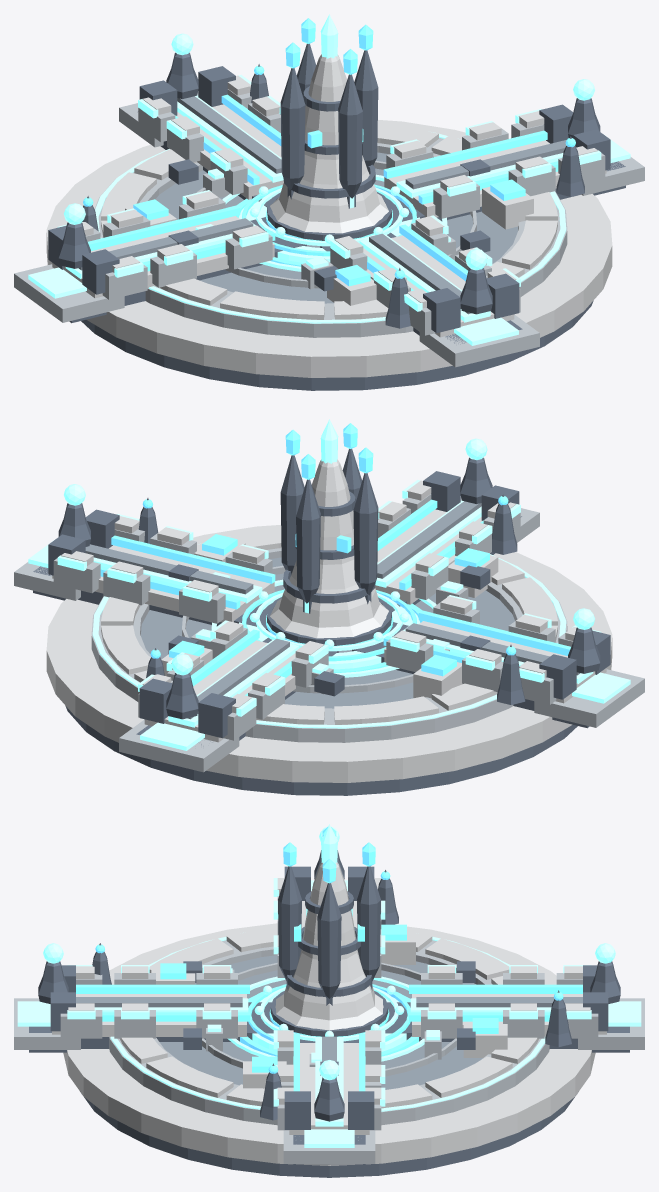
File: base_earth.glb
3 renders of one model, top to bottom at view 1: azimuth 30°, elevation 25°; view 2: azimuth 150°, elevation 25°; view 3: azimuth 270°, elevation 25°, orthographic. The views are drawn at different scales.
Parts seen in each view (by area): view 1: MATERIAL_ivory, MATERIAL_gunmetal, MATERIAL_silver, MATERIAL_cyan, MATERIAL_blue, MATERIAL_steel; view 2: MATERIAL_ivory, MATERIAL_gunmetal, MATERIAL_silver, MATERIAL_cyan, MATERIAL_blue, MATERIAL_steel; view 3: MATERIAL_ivory, MATERIAL_gunmetal, MATERIAL_silver, MATERIAL_cyan, MATERIAL_blue, MATERIAL_steel.
Boxes of the visible parts, x1,y1,x2,y2 form: MATERIAL_ivory: (46, 54, 612, 377); MATERIAL_gunmetal: (48, 44, 625, 390); MATERIAL_silver: (14, 89, 644, 367); MATERIAL_cyan: (28, 14, 630, 345); MATERIAL_blue: (83, 18, 575, 290); MATERIAL_steel: (78, 96, 566, 314); MATERIAL_ivory: (46, 459, 612, 782); MATERIAL_gunmetal: (33, 449, 610, 795); MATERIAL_silver: (14, 494, 644, 772); MATERIAL_cyan: (28, 419, 630, 750); MATERIAL_blue: (100, 423, 570, 695); MATERIAL_steel: (85, 501, 580, 719); MATERIAL_ivory: (52, 862, 606, 1165); MATERIAL_gunmetal: (29, 850, 629, 1177); MATERIAL_silver: (14, 895, 644, 1163); MATERIAL_cyan: (17, 824, 641, 1147); MATERIAL_blue: (76, 827, 582, 1091); MATERIAL_steel: (76, 955, 582, 1089).
Size of the model in its own units: 11.5 by 4.95 by 11.5.
